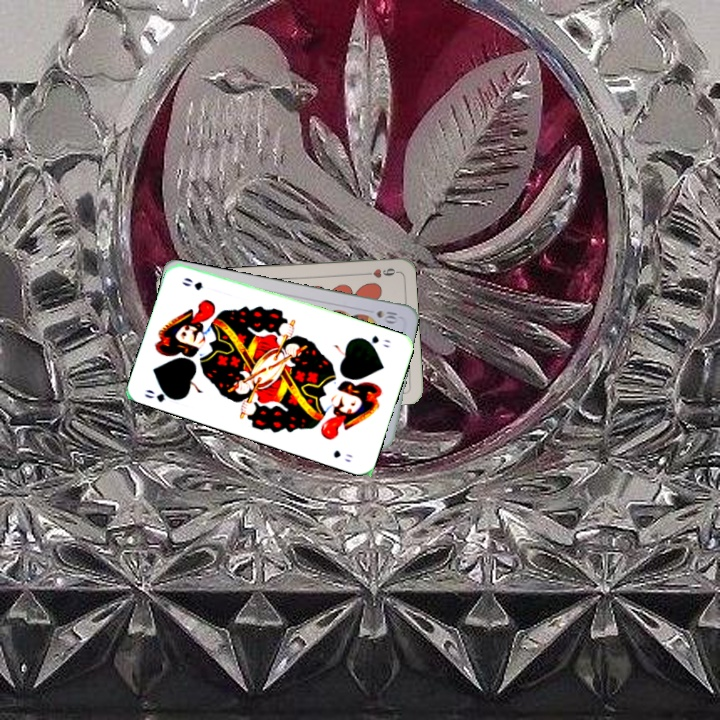GO: (140, 384, 181, 405), (357, 331, 393, 350)
H9: (359, 264, 400, 281)
S10: (372, 306, 400, 325)
